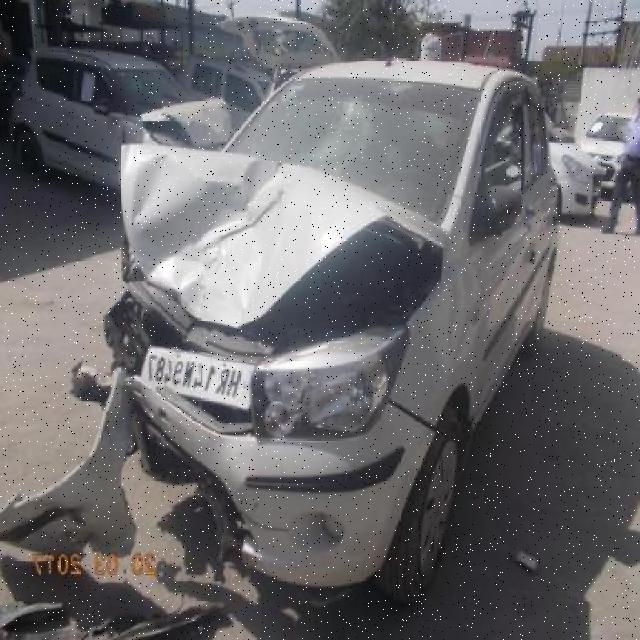damage: (40, 265, 279, 623), (110, 146, 447, 368), (268, 84, 373, 174), (245, 508, 286, 538), (373, 78, 418, 102)
